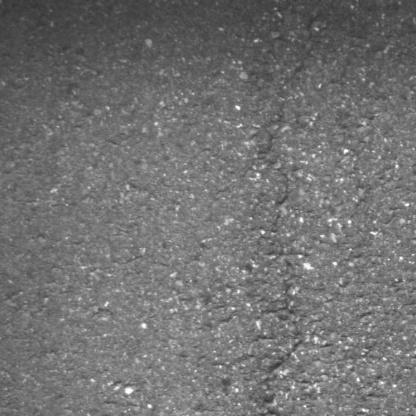Cracks: (255, 9, 327, 416)
